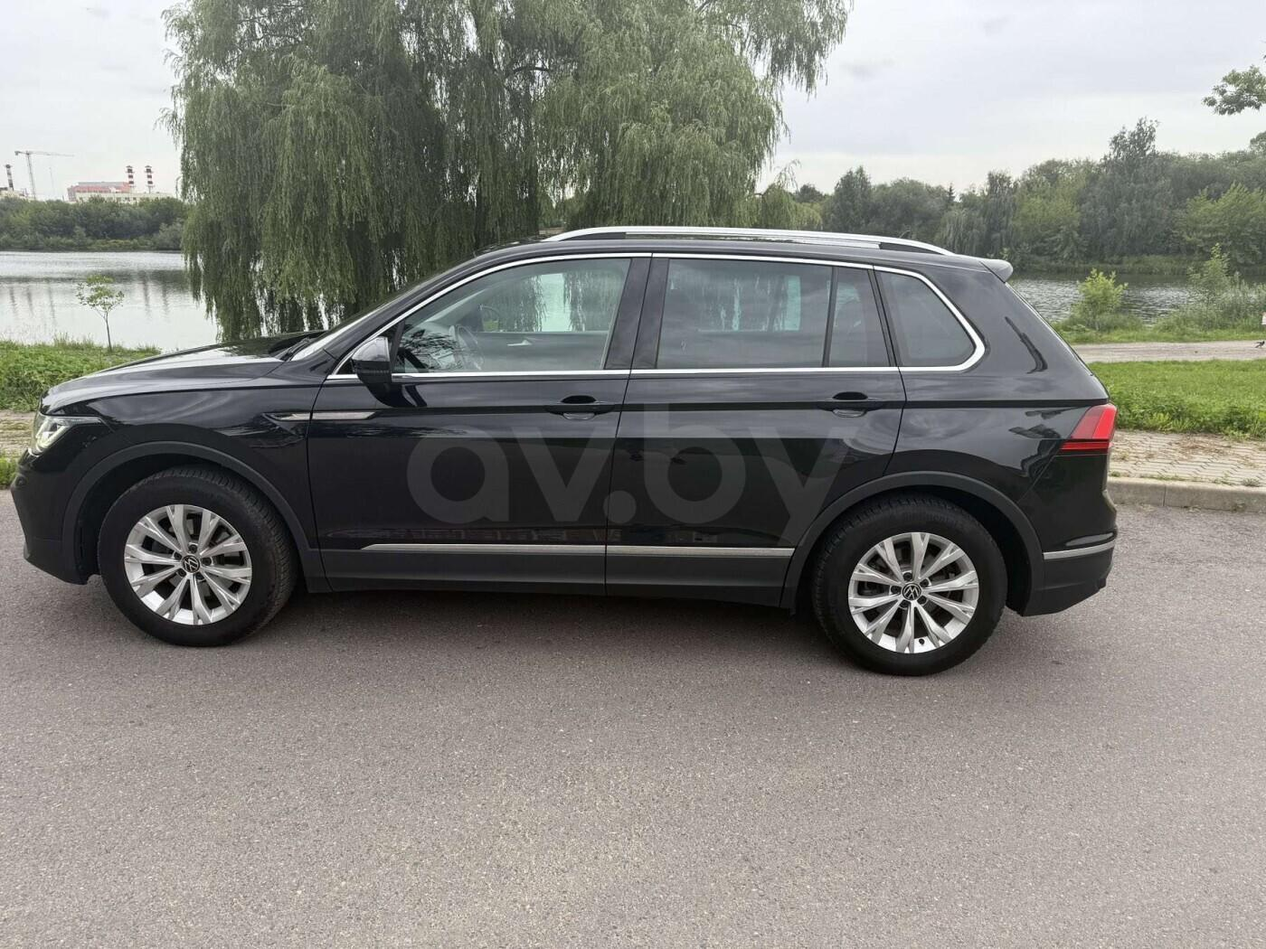Tiguan_2020-2024: (9, 232, 1123, 674)
